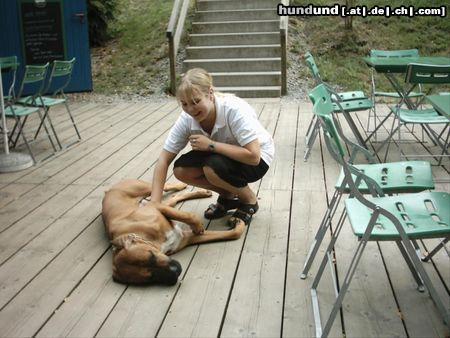human_face: (179, 88, 214, 122)
person: (151, 66, 274, 226)
tosa_inu: (101, 177, 245, 284)
